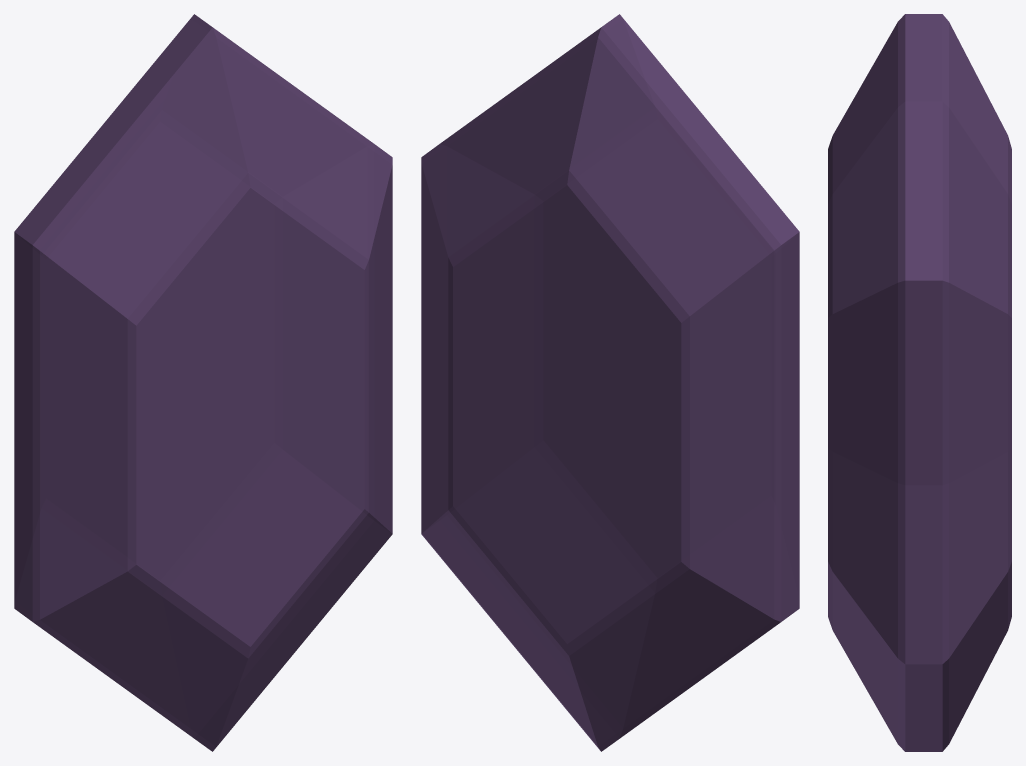
Rendered from houseki0302.fbx.
3 renders of one model, left to right at view 1: azimuth 30°, elevation 25°; view 2: azimuth 150°, elevation 25°; view 3: azimuth 270°, elevation 25°, orthographic.
Visible parts, largest first — view 1: houseki3_0001:pCube1; view 2: houseki3_0001:pCube1; view 3: houseki3_0001:pCube1.
Boxes of the visible parts, <box> form: houseki3_0001:pCube1: <box>14,14,392,751</box>; houseki3_0001:pCube1: <box>421,14,799,751</box>; houseki3_0001:pCube1: <box>828,14,1011,751</box>.
Size of the model in its own units: 42.03 by 80.82 by 18.26.
